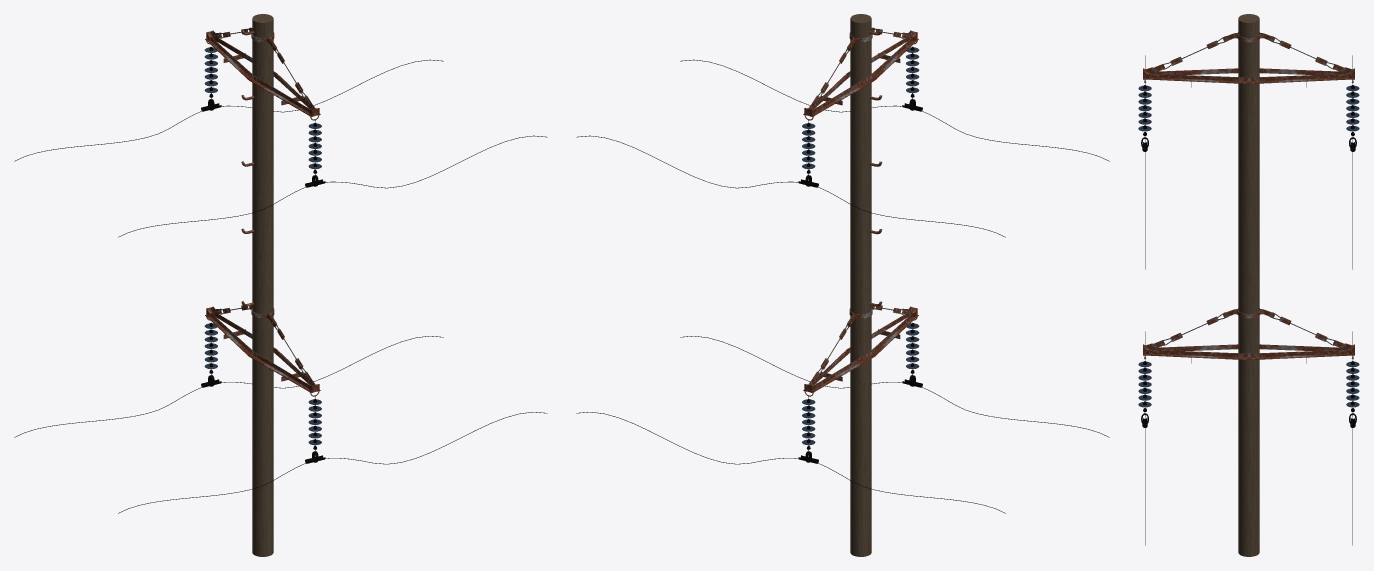
Rendered from gimbo 2.fbx.
The picture shows the model from 3 angles, left to right: view 1: azimuth 30°, elevation 25°; view 2: azimuth 150°, elevation 25°; view 3: azimuth 270°, elevation 25°; orthographic projection.
Visible parts, largest first — view 1: Cylinder, Cube.004, Cube, BézierCurve.007, BézierCurve.011; view 2: Cylinder, Cube, Cube.004, BézierCurve.007, BézierCurve.011; view 3: Cylinder, Cube.004, Cube, BézierCurve.011, BézierCurve.007, Cylinder.051.
Boxes of the visible parts, <box> form: Cylinder: <box>252,14,273,556</box>; Cube.004: <box>205,30,320,117</box>; Cube: <box>205,306,320,393</box>; BézierCurve.007: <box>14,59,547,237</box>; BézierCurve.011: <box>14,336,547,513</box>; Cylinder: <box>850,14,871,556</box>; Cube: <box>803,306,918,393</box>; Cube.004: <box>803,30,918,117</box>; BézierCurve.007: <box>576,59,1109,237</box>; BézierCurve.011: <box>576,336,1109,513</box>; Cylinder: <box>1238,14,1259,556</box>; Cube.004: <box>1143,67,1354,83</box>; Cube: <box>1143,343,1354,360</box>; BézierCurve.011: <box>1145,331,1352,545</box>; BézierCurve.007: <box>1145,55,1352,269</box>; Cylinder.051: <box>1223,32,1274,42</box>.
Bounding box in the file's own units: 1311 × 1558 × 585.
